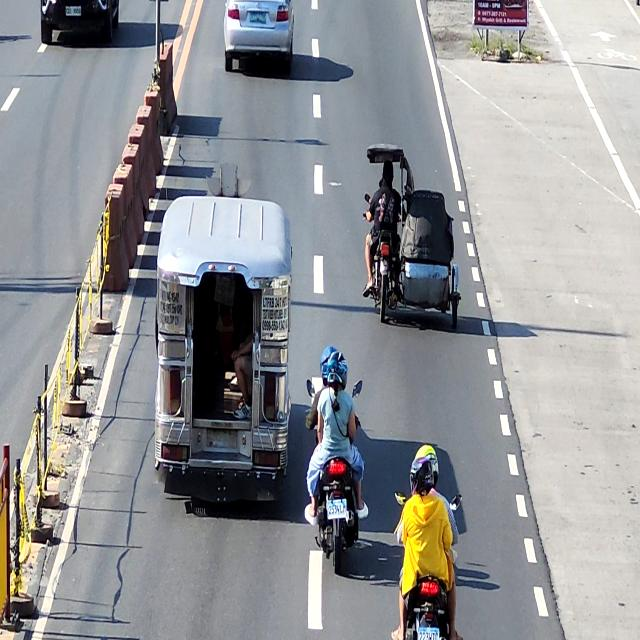Car: (223, 0, 294, 73), (39, 0, 120, 44)
Jeep: (156, 193, 290, 512)
License-Plate: (206, 428, 238, 448), (328, 500, 347, 520), (417, 628, 439, 640), (249, 12, 267, 24), (66, 7, 82, 16)
Motorcycle: (307, 378, 364, 575), (393, 489, 462, 640)
Tricycle: (363, 144, 461, 329)
